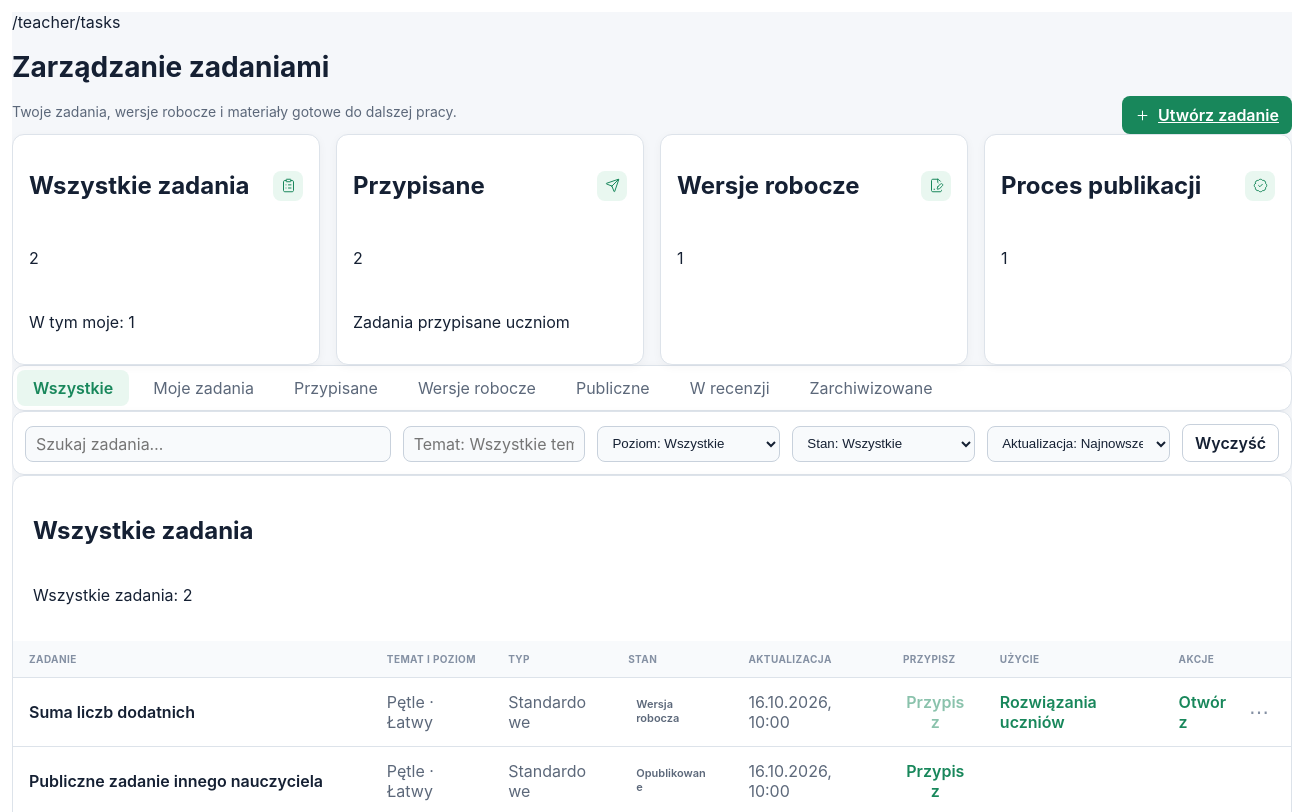
Test case: combines my tasks and public tasks, counts both and filters by ownership
Expected: the 1st text "2" is shown, [29,248,39,268]
Expected: the text "W tym moje: 1" is shown, [29,312,135,332]
Click the button "Moje zadania": (204, 388) [137,370,270,406]
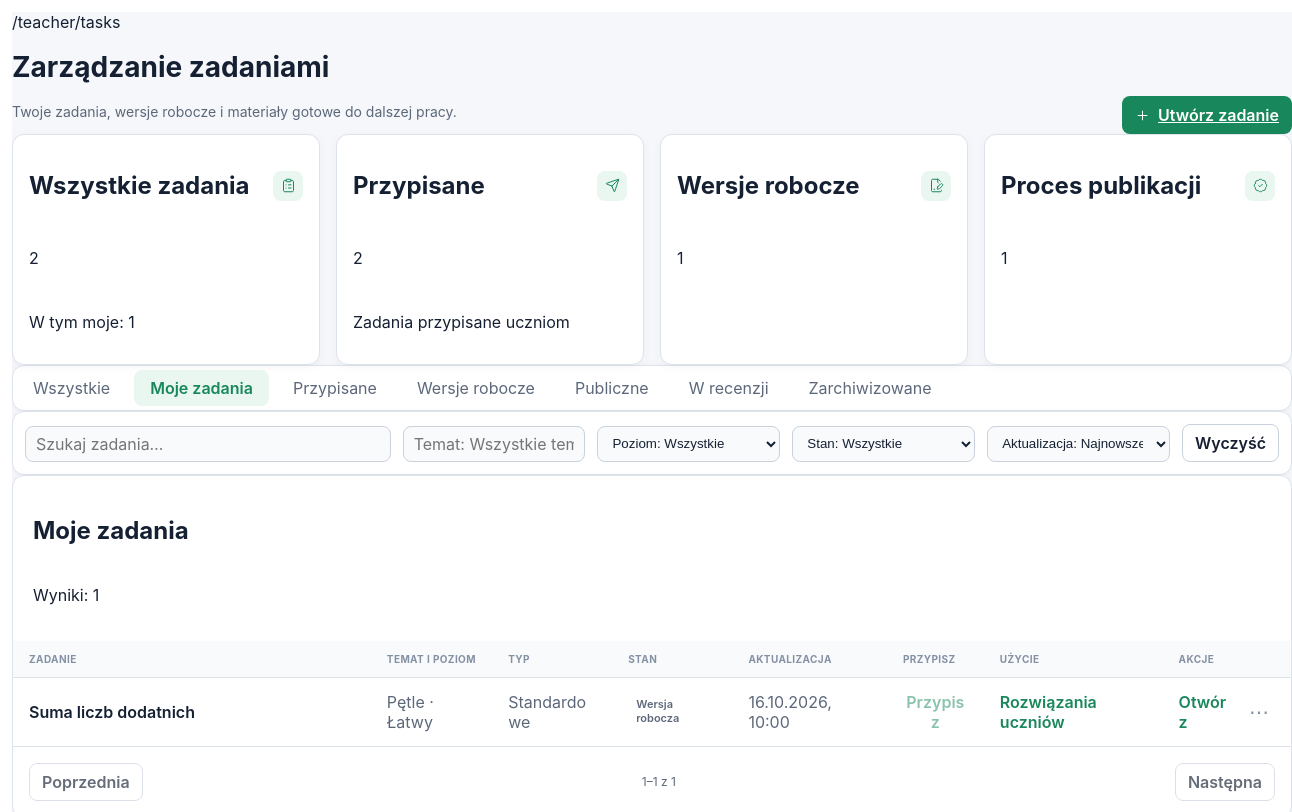
Expected: the text "2" below "Wszystkie zadania" is shown, [29,248,39,268]
Expected: the link "Publiczne zadanie innego nauczyciela" is gone
Click the button "Wszystkie": (72, 388) [17,370,126,406]
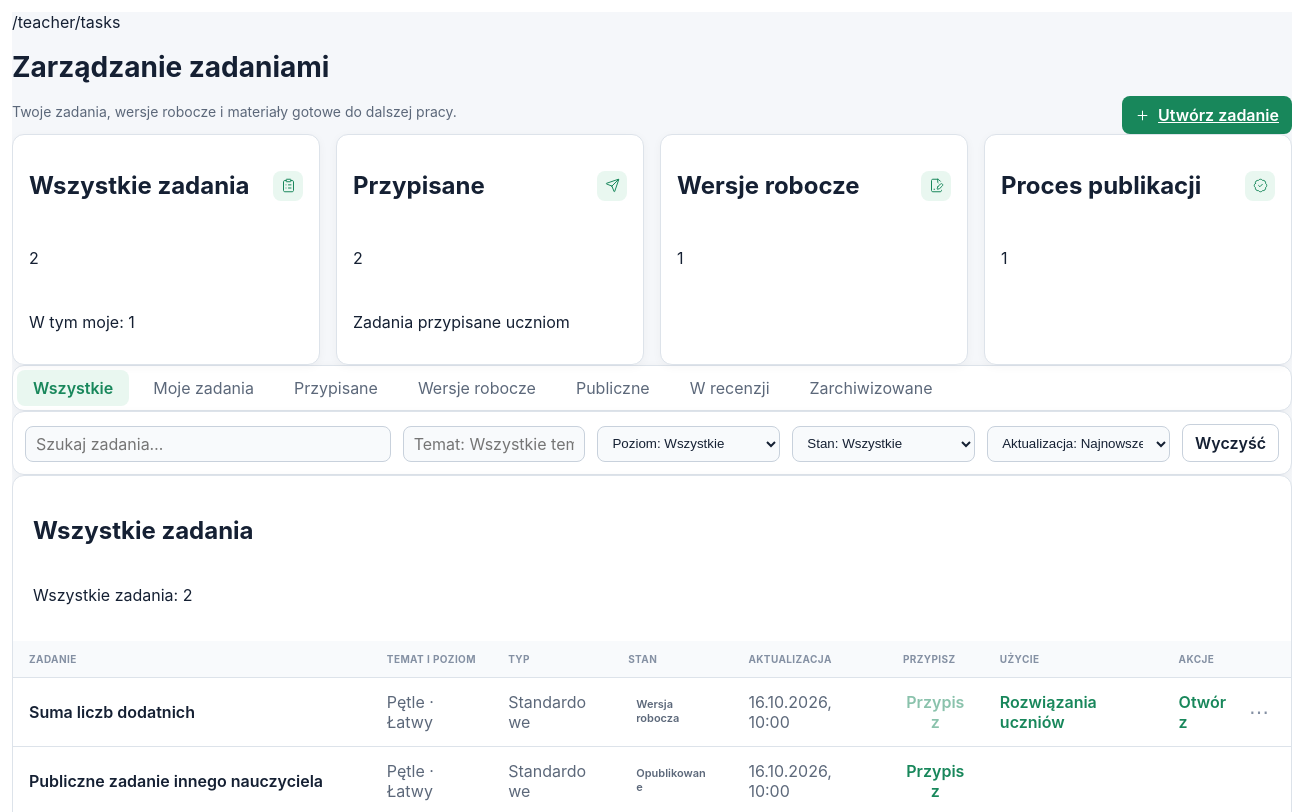
Expected: the link "Publiczne zadanie innego nauczyciela" is shown, [29,771,323,791]
